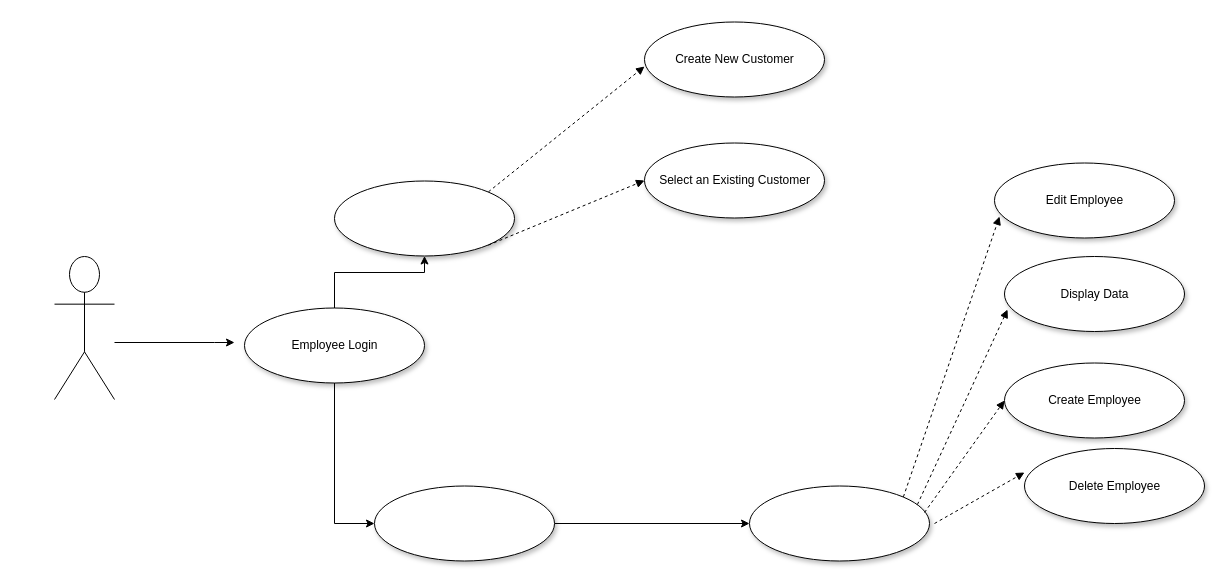
The diagram is 1228 pixels wide and 585 high, and some of its shapes have lost their labels. Each missing label, with the centre of its shape:
"Bank Employee" goes at [84,328].
"Customers List Page" goes at [425,219].
"Employee Page" goes at [465,524].
"Manage Employee Data" goes at [840,524].
